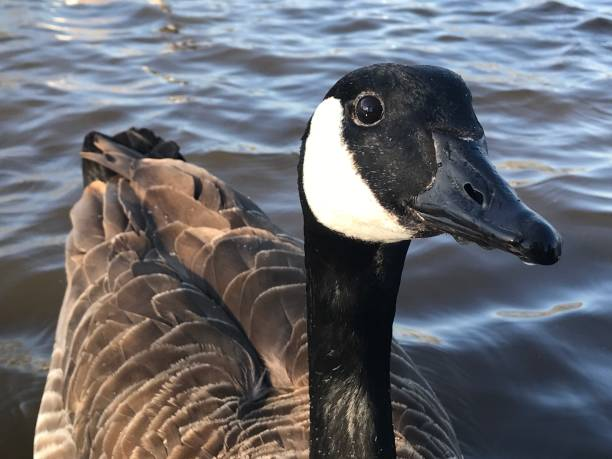goose: (25, 56, 568, 459)
